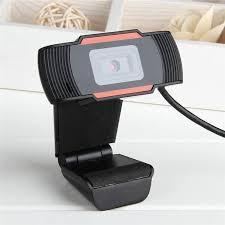webcam: (38, 29, 182, 209)
